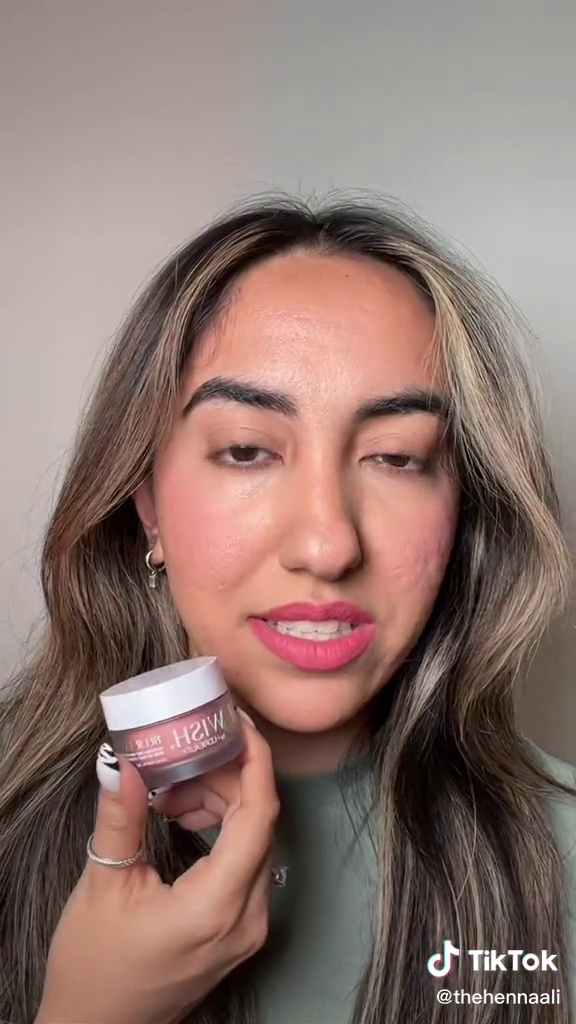train' :'yolo_data/train/images',: (90, 649, 248, 794)
